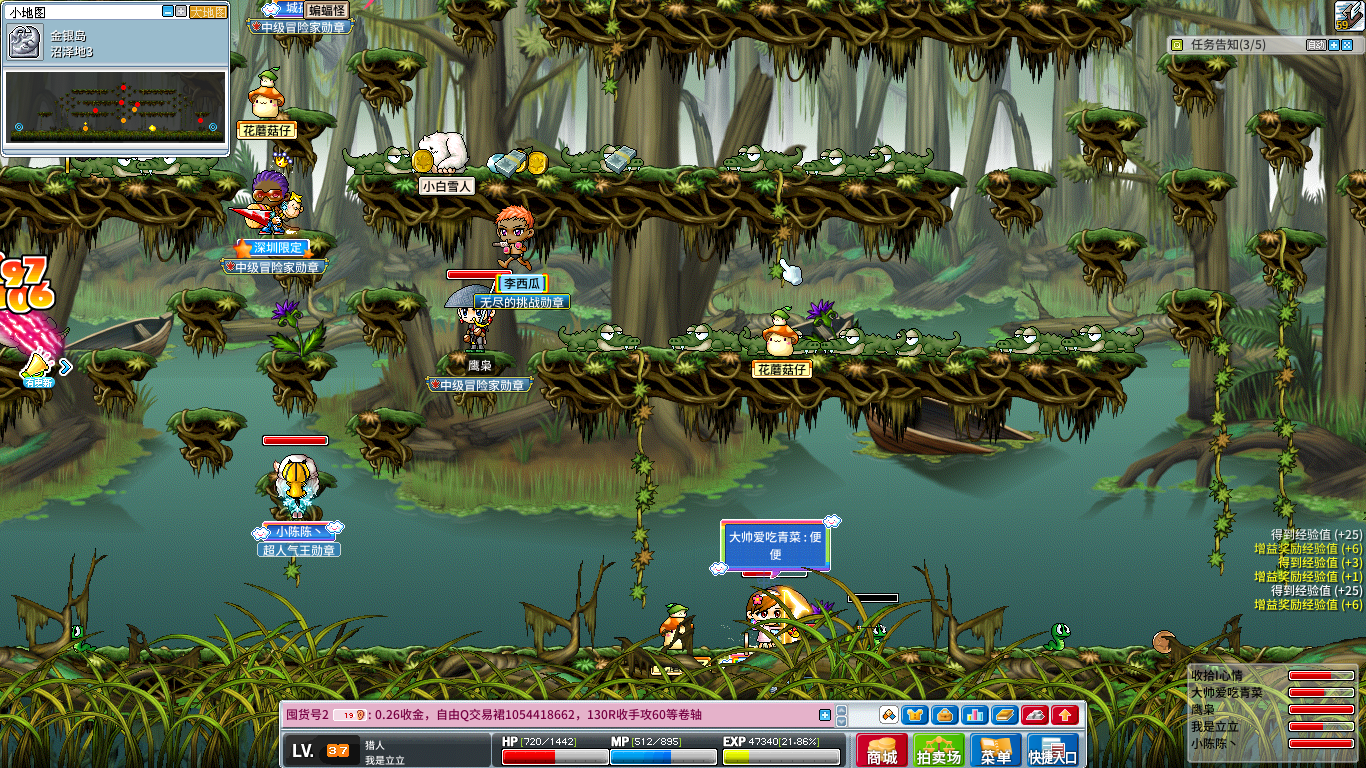monster: (1044, 623, 1071, 650), (72, 625, 98, 653), (873, 624, 886, 650)
